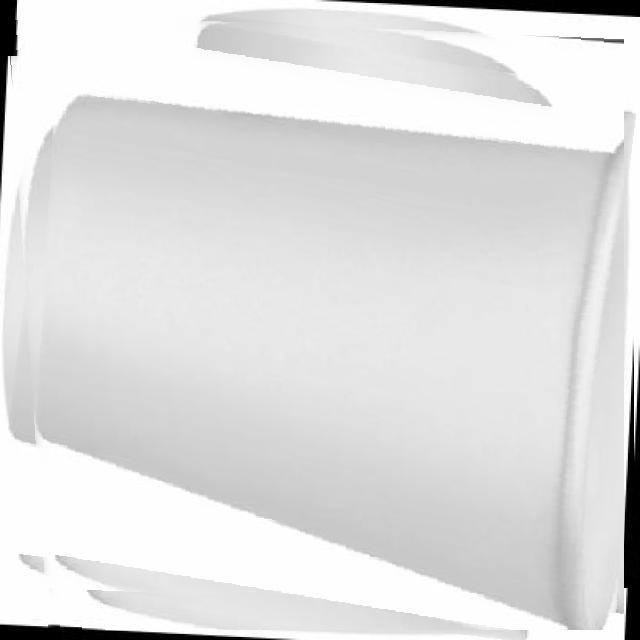non-biodegradable: (7, 12, 624, 630)
